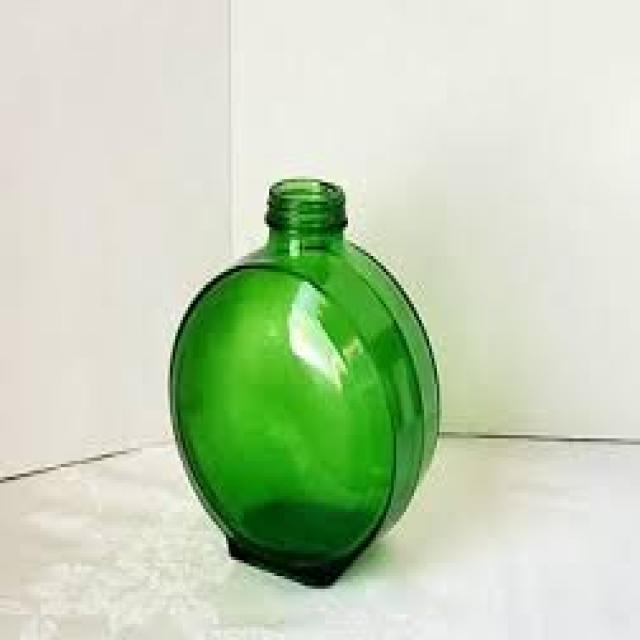glass: (165, 176, 439, 582)
